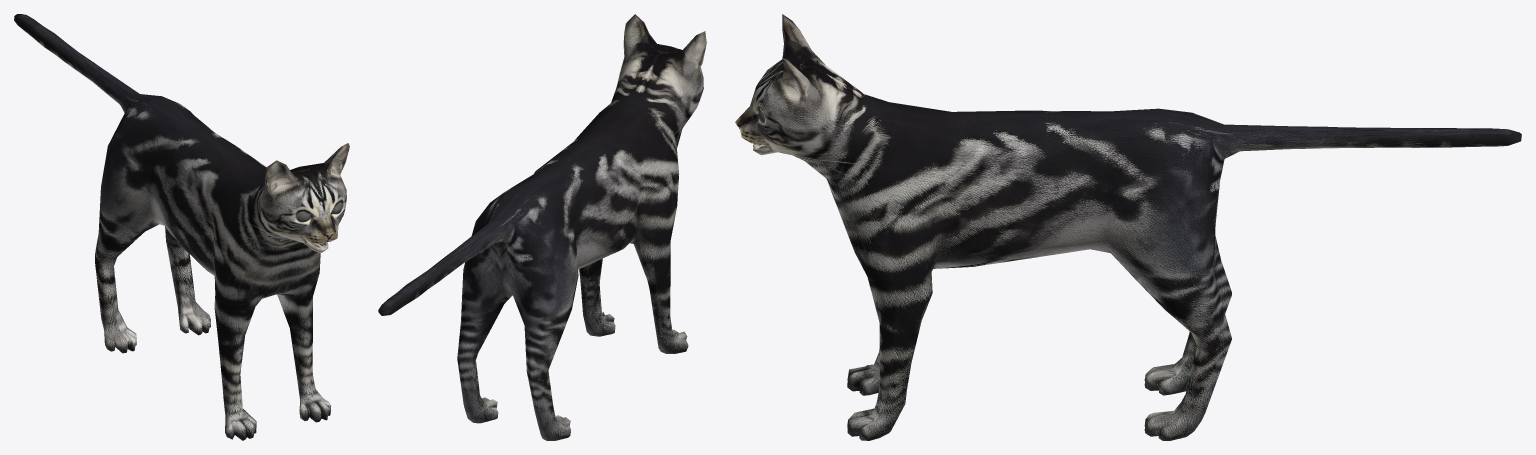
3 renders of one model, left to right at view 1: azimuth 30°, elevation 25°; view 2: azimuth 150°, elevation 25°; view 3: azimuth 270°, elevation 25°, orthographic. The views are drawn at different scales.
Visible parts, largest first — view 1: Mesh_0; view 2: Mesh_0; view 3: Mesh_0.
Part boxes in pixels (x1,y1,x2,y2): Mesh_0: [14, 14, 349, 440]; Mesh_0: [378, 14, 706, 440]; Mesh_0: [735, 14, 1521, 440].
Size of the model in its own units: 39.05 by 105 by 200.
1 material, 1 textured.
